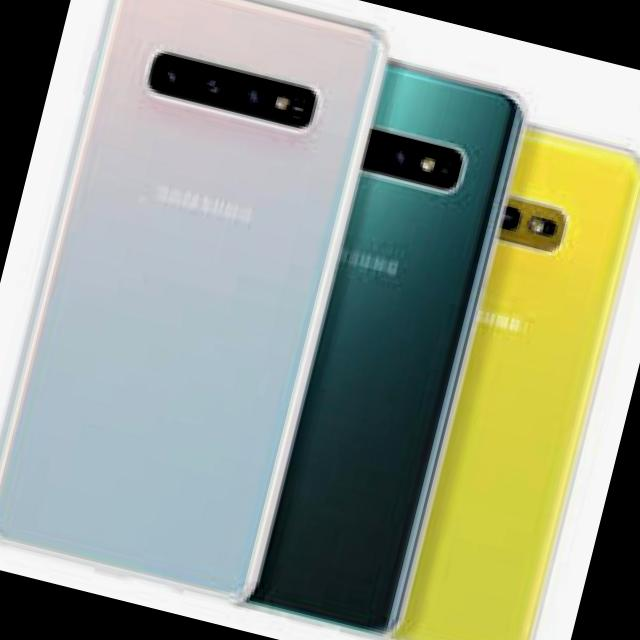lens_back: (379, 132, 420, 180), (192, 64, 230, 106), (234, 75, 272, 117), (154, 55, 190, 95)
phone: (0, 0, 399, 612), (247, 52, 537, 640), (390, 114, 640, 640)
